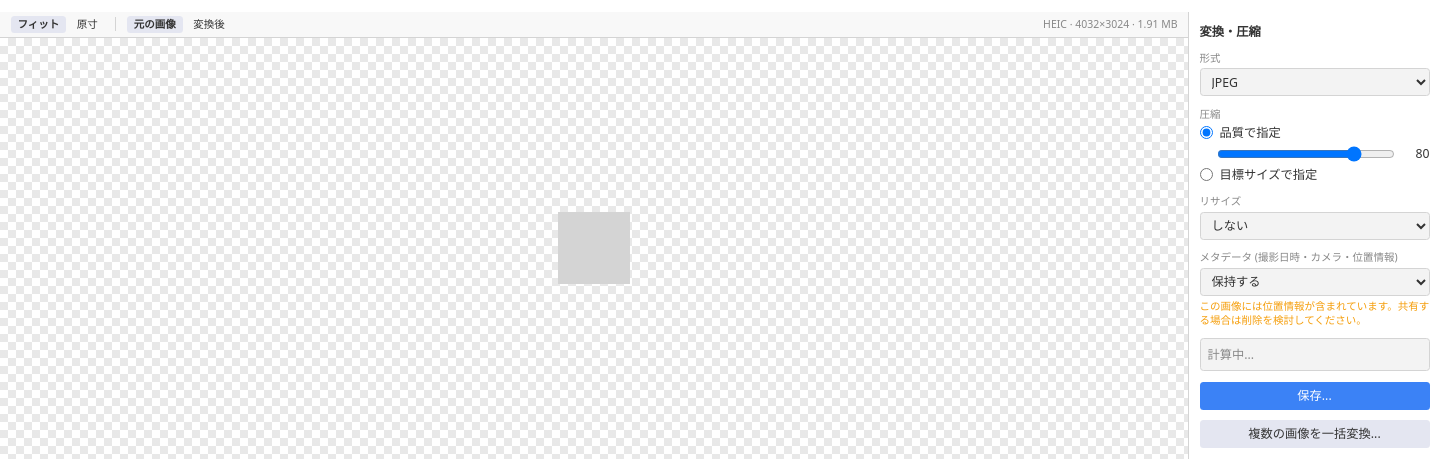
Test: ImageViewer › 変換は同時に 1 件だけ走らせ、終わってから最新の設定で 1 回だけやり直す
// 最初の変換が終わらないうちに設定を 2 回変える
Select "WebP" in the dropdown named "形式" at (1314, 82), box [1200,68,1430,96]
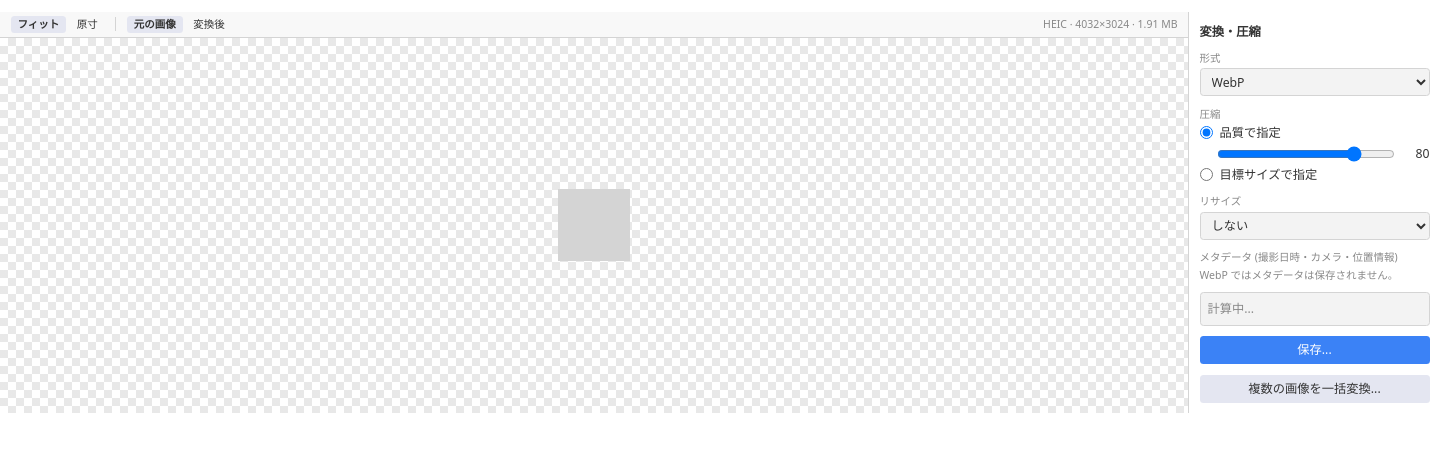
Set the slider named "品質" to "50" at (1305, 154), box [1217,146,1394,162]
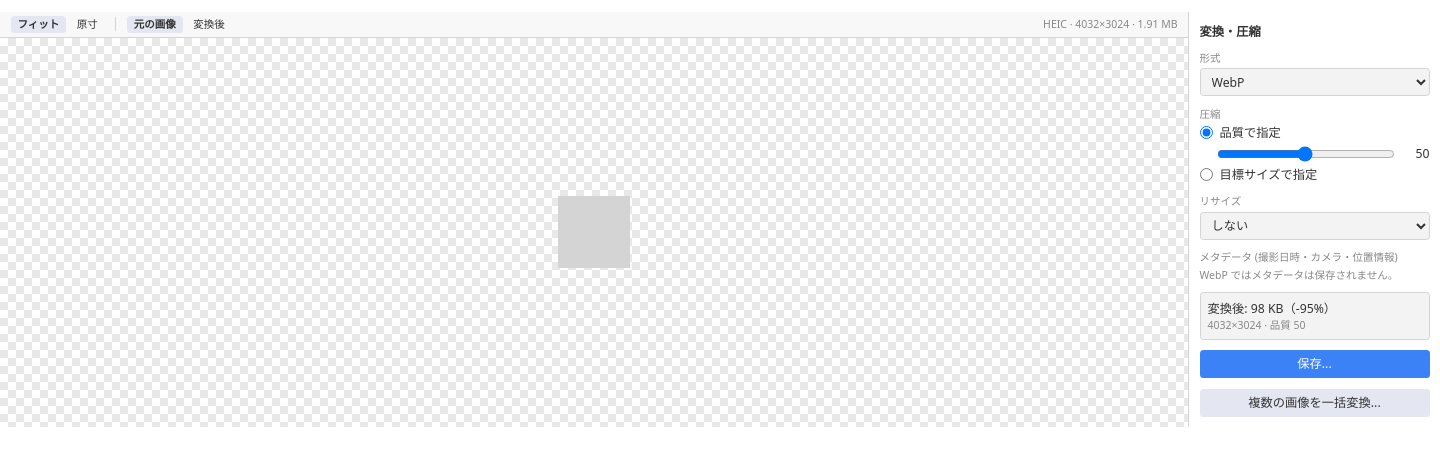
Result: the message shows "変換後: 98 KB" at [1200,292,1430,340]
